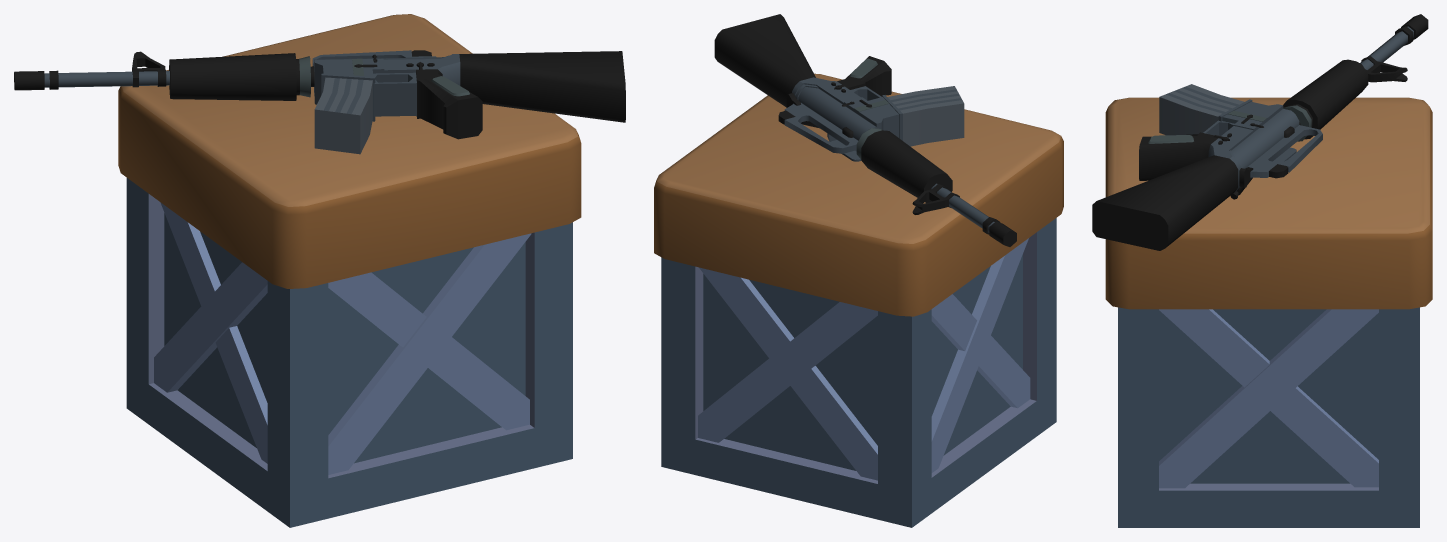
The model's file is machine4.glb.
3 renders of one model, left to right at view 1: azimuth 30°, elevation 25°; view 2: azimuth 150°, elevation 25°; view 3: azimuth 270°, elevation 25°, orthographic. The views are drawn at different scales.
Visible parts, largest first — view 1: Machine_4; view 2: Machine_4; view 3: Machine_4.
Part boxes in pixels (left/top/right/bottom): Machine_4: left=14, top=14, right=625, bottom=527; Machine_4: left=654, top=14, right=1063, bottom=527; Machine_4: left=1092, top=14, right=1432, bottom=527.
Size of the model in its own units: 1.33 by 1.01 by 0.8932.
1 material, 1 textured.
